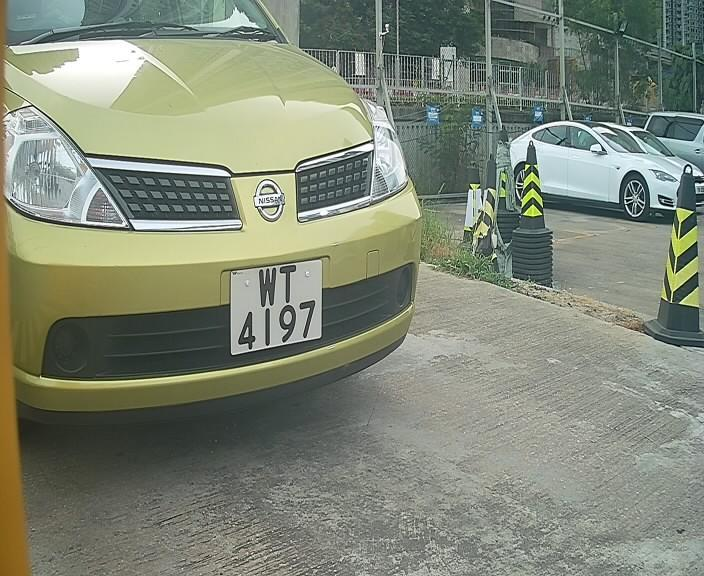License Plate: (217, 253, 334, 363)
